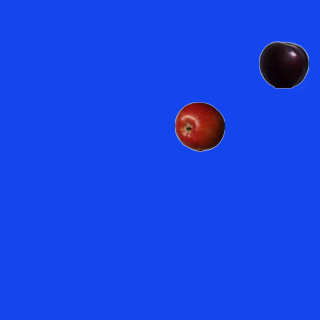Apple Braeburn: (174, 101, 224, 151)
Cherry Wax Black: (258, 39, 308, 89)
